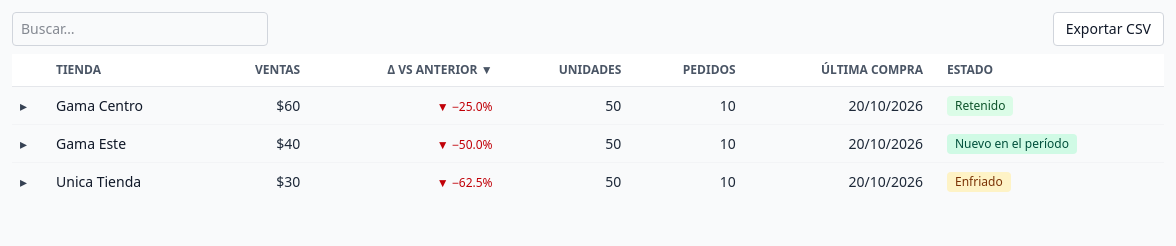
Test: TrajectoryTable › with renderEvolution › in the tienda view each store opens its own evolution
Click the button named "Expandir". click: (24, 106)
box: [16,96,31,116]
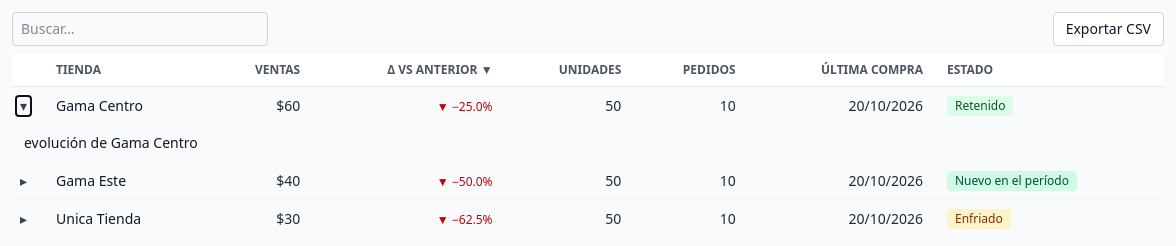
Now the text "evolución de Gama Centro" is shown, box [24,133,198,152]
